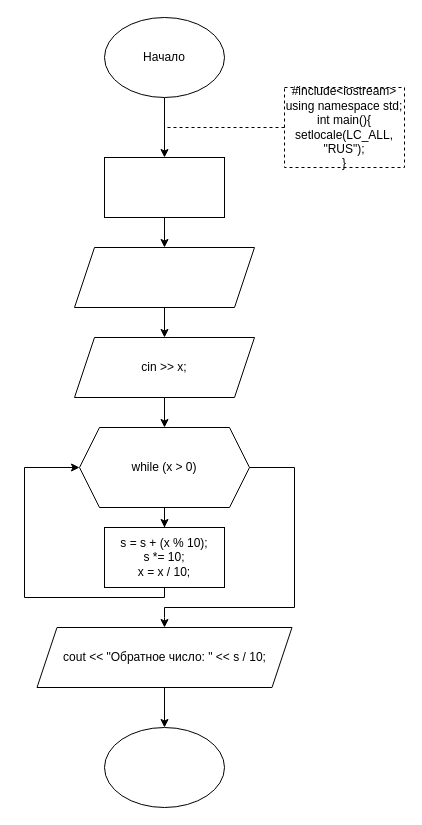
Some shapes in this 422 by 825 pixel diagram are drawn without their labels. The shapes that lost their labels are listed below. From the top down, each one's centre as x and y in pixels, then its label:
the point at 164,187: int s = 0, x;
the point at 164,277: cout << "Введите число: ";
the point at 164,767: Конец
